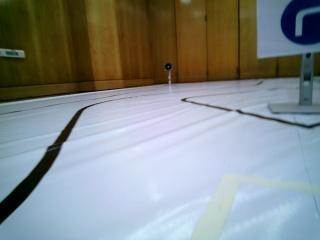right: (263, 2, 320, 54)
